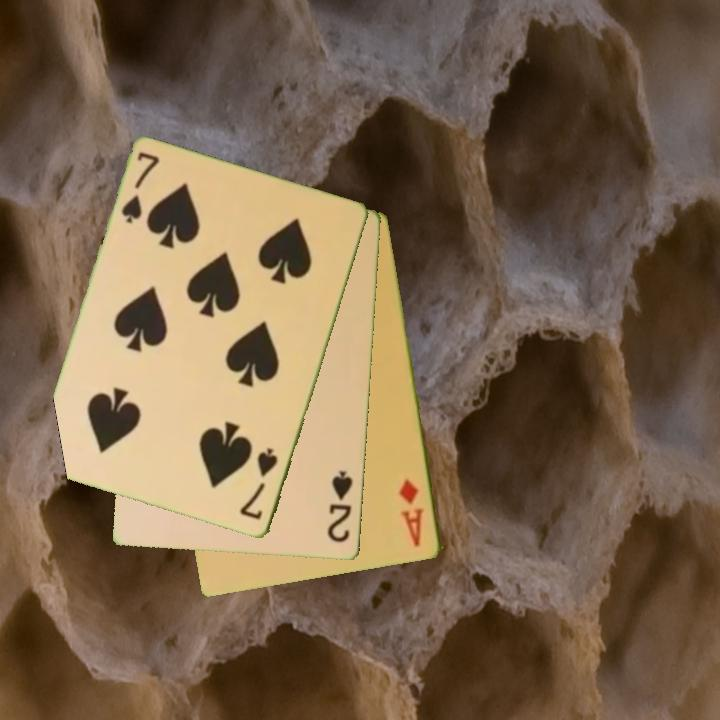2s: (324, 467, 356, 546)
7s: (236, 444, 281, 523), (118, 149, 163, 227)
Ad: (396, 475, 427, 551)
